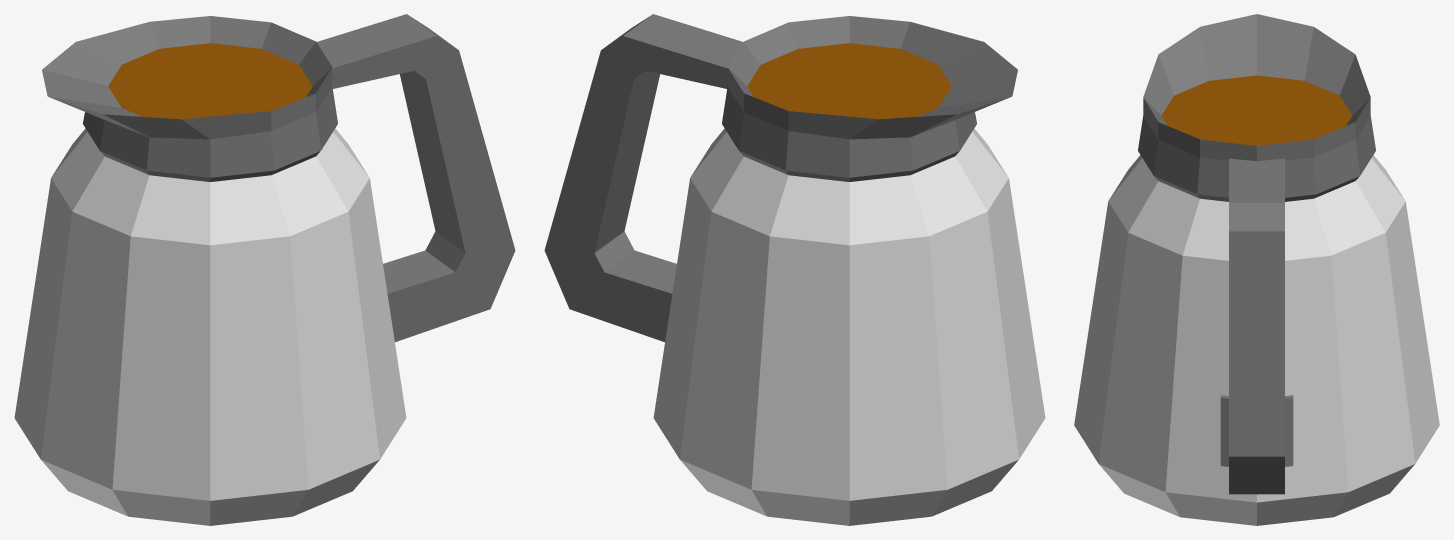
The model's file is Coffee Jar.fbx.
3 renders of one model, left to right at view 1: azimuth 30°, elevation 25°; view 2: azimuth 150°, elevation 25°; view 3: azimuth 270°, elevation 25°, orthographic. The views are drawn at different scales.
Visible parts, largest first — view 1: Coffee_Jar, CoffeeFill; view 2: Coffee_Jar, CoffeeFill; view 3: Coffee_Jar, CoffeeFill.
Boxes of the visible parts, left/top/right/bottom form: Coffee_Jar: left=14, top=14, right=515, bottom=525; CoffeeFill: left=108, top=43, right=312, bottom=119; Coffee_Jar: left=544, top=14, right=1045, bottom=525; CoffeeFill: left=747, top=43, right=951, bottom=119; Coffee_Jar: left=1074, top=14, right=1439, bottom=525; CoffeeFill: left=1161, top=75, right=1352, bottom=145.
Bounding box in the file's own units: 3.33 × 2.77 × 2.46.
